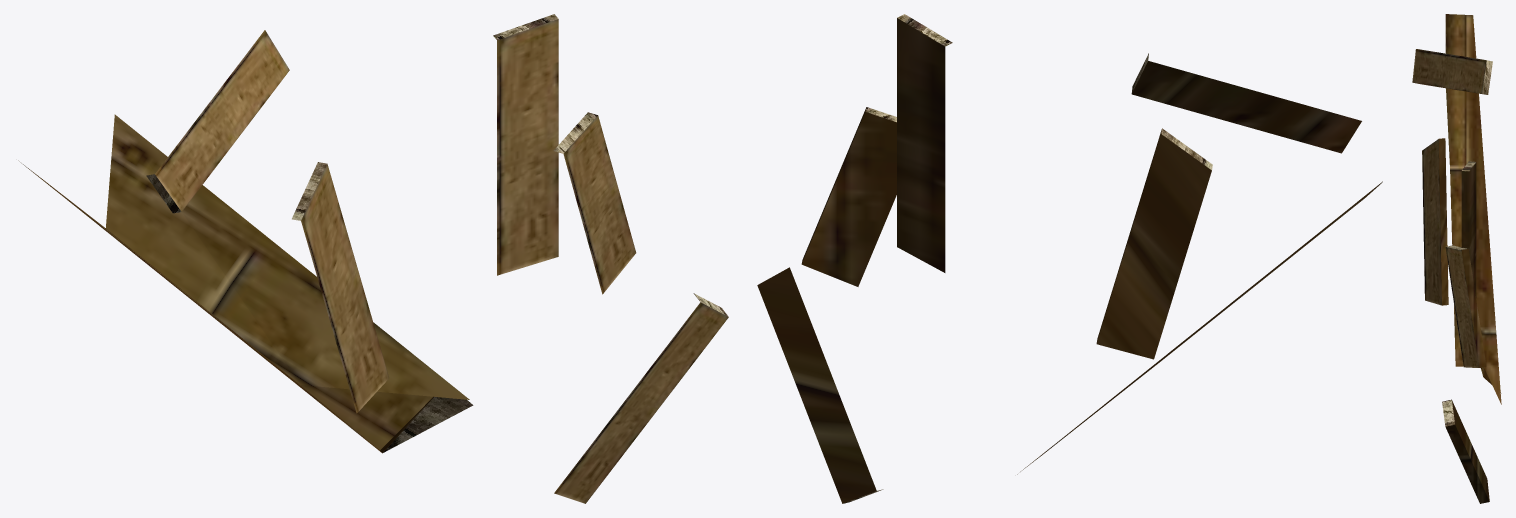
3 views of the same model, side by side, from view 1: azimuth 30°, elevation 25°; view 2: azimuth 150°, elevation 25°; view 3: azimuth 270°, elevation 25° (orthographic). The views are drawn at different scales.
Parts seen in each view (by area): view 1: model_Object17; view 2: model_Object17; view 3: model_Object17.
Boxes of the visible parts, x1,y1,x2,y2 form: model_Object17: [18, 14, 728, 503]; model_Object17: [757, 14, 1382, 503]; model_Object17: [1412, 14, 1501, 503].
Bounding box in the file's own units: 2.52 × 1.94 × 0.4541.
3 materials, 3 textured.
